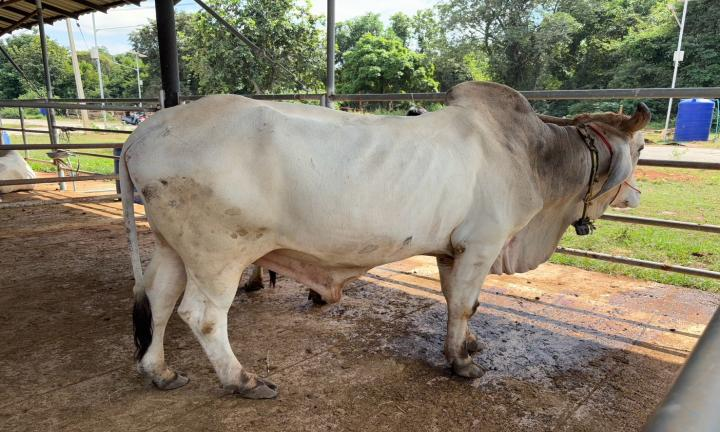Brahman: (120, 81, 650, 398)
